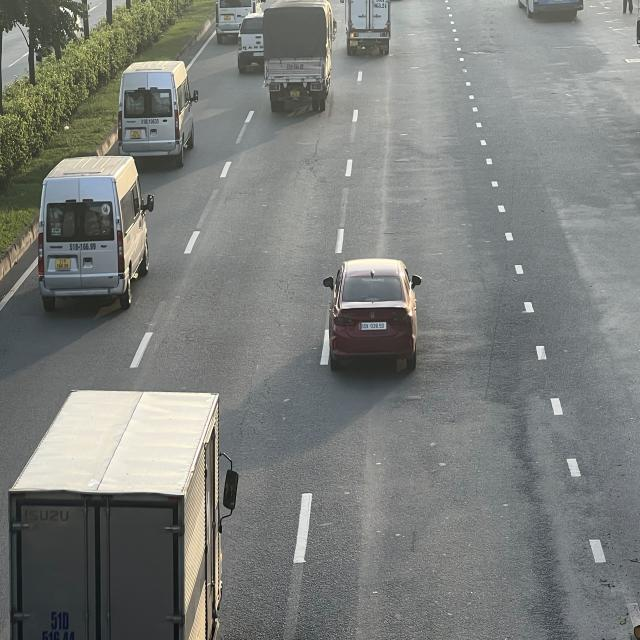car: (325, 258, 422, 372), (236, 15, 264, 74)
truck: (10, 388, 242, 640), (262, 2, 332, 111), (344, 1, 391, 56)
van: (38, 154, 153, 313), (119, 61, 198, 168)
